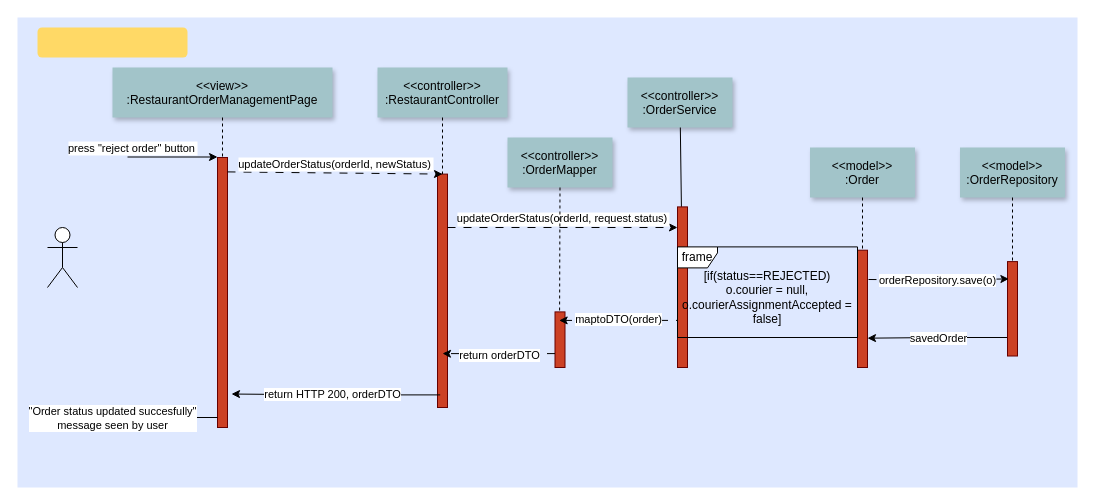
Image size: 1094x504. Some labels were removed from this diagram. Each missing label, with the centre of its shape:
"reject order" belongs at point 112,42.
"Restaurant" belongs at point 62,257.
